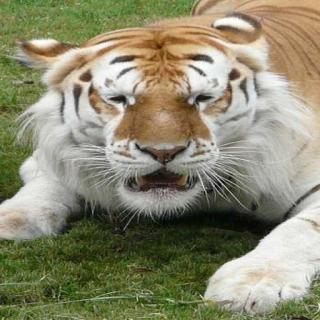Tiger: (11, 10, 320, 293)
